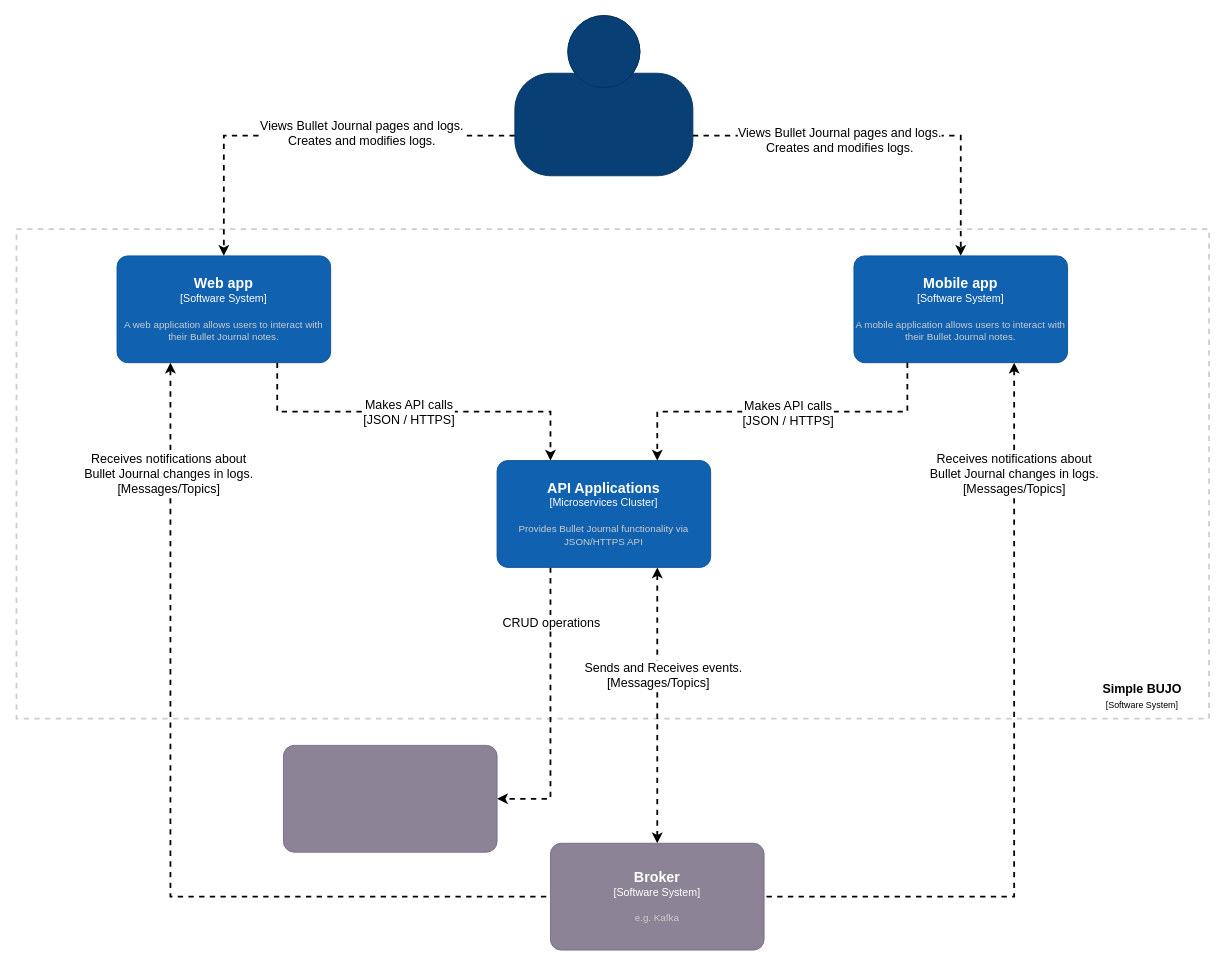
Image size: 1225x966. Some labels were removed from this diagram. The shapes that lost their labels are listed below. From the top down, each one's centre as x and y in pixels, then its label:
At (x=603, y=95): "User [Person] A SimpleBUJO user".
At (x=390, y=798): "Repository [Software System] e.g. MongoDB".
